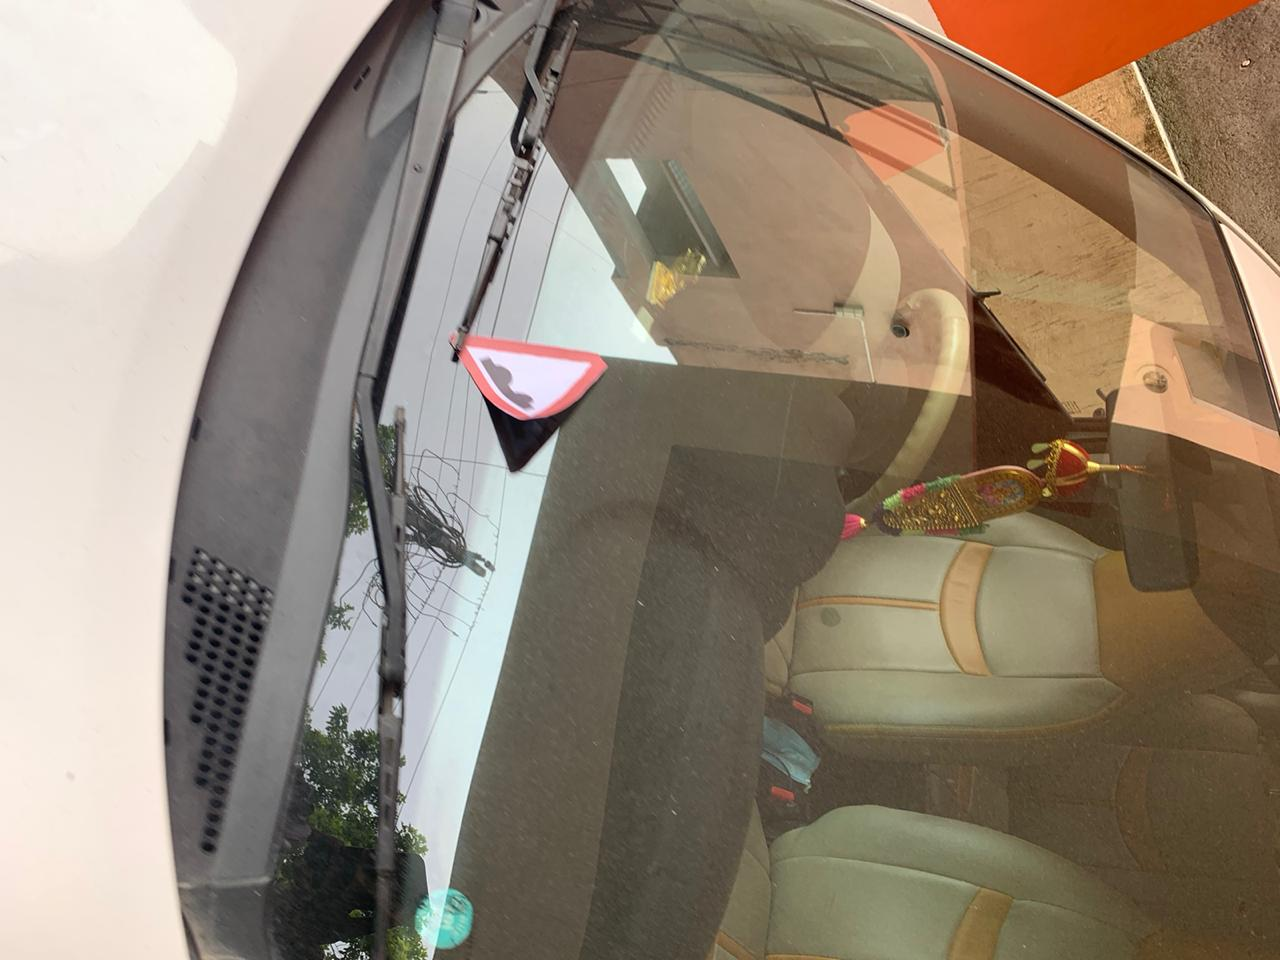UNEVEN ROAD: (446, 302, 619, 427)
